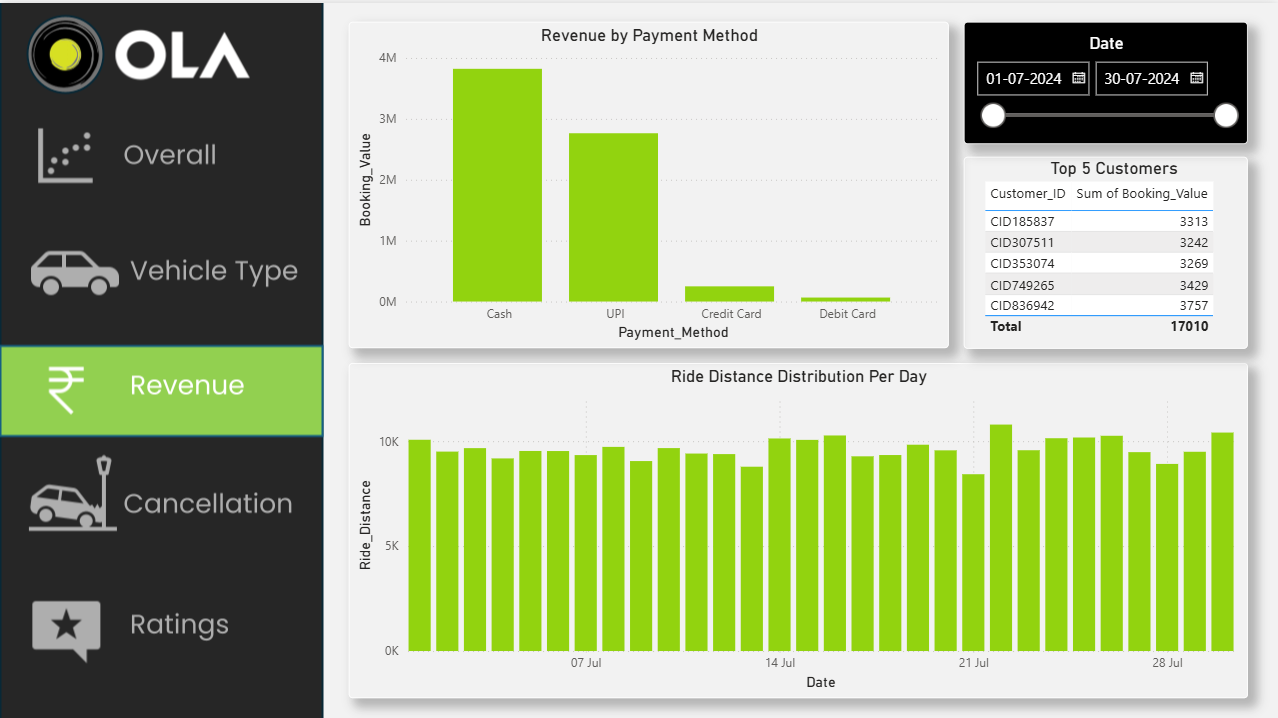

Layout of this report page (visuals, bound fields, positions):
{"tool":"powerbi","page":{"name":"Revenue","canvas":[1280,720],"ordinal":2},"visuals":[{"type":"actionButton","box":[0,222,322.1,92.9],"z":0},{"type":"actionButton","box":[1.2,450,322.1,92.9],"z":1000},{"type":"actionButton","box":[1.2,446.4,322.1,92.9],"z":2000},{"type":"actionButton","box":[2.4,579.1,320.9,88.1],"z":3000},{"type":"actionButton","box":[0,106.2,320.9,94.1],"z":4000},{"type":"columnChart","title":"Revenue by Payment Method","fields":{"Y":["Sum(July.Booking_Value)"],"Category":["July.Payment_Method"]},"box":[348.5,19.2,599.7,326.6],"z":5000},{"type":"columnChart","title":"Ride Distance Distribution Per Day","fields":{"Y":["Sum(July.Ride_Distance)"],"Category":["July.Date"]},"box":[348.5,359.5,898.8,334.8],"z":6000},{"type":"slicer","title":"Date","fields":{"Values":["July.Date"]},"box":[963.3,19.2,284,122.1],"z":7000},{"type":"tableEx","title":"Top 5 Customers","fields":{"Values":["July.Customer_ID","Sum(July.Booking_Value)"]},"box":[963.3,153.7,284,192.1],"z":8000}]}

Visuals, with their boxes on the page's 1280x720 design canvas (x1, y1, x2, y2). These are canvas units, not pixel positions in the 1278x718 screenshot, which may show the page scaled, cropped or inside an application window:
actionButton: locate(0, 222, 322, 315)
actionButton: locate(1, 450, 323, 543)
actionButton: locate(1, 446, 323, 539)
actionButton: locate(2, 579, 323, 667)
actionButton: locate(0, 106, 321, 200)
"Revenue by Payment Method" columnChart: locate(348, 19, 948, 346)
"Ride Distance Distribution Per Day" columnChart: locate(348, 360, 1247, 694)
"Date" slicer: locate(963, 19, 1247, 141)
"Top 5 Customers" tableEx: locate(963, 154, 1247, 346)
